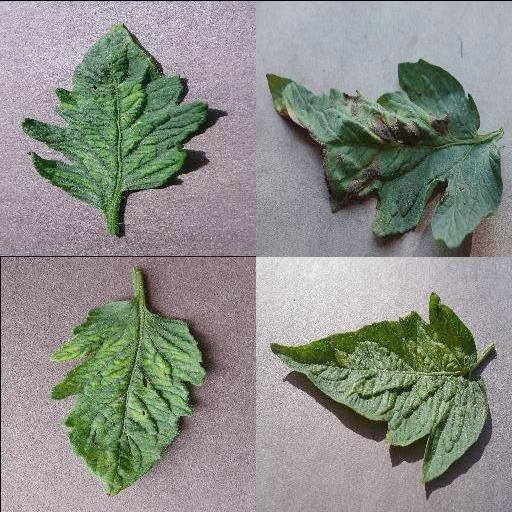Early Blight: (267, 57, 505, 248)
Mosaic Virus: (19, 23, 207, 209), (47, 297, 205, 497)
Spider Mites: (268, 290, 490, 484)
